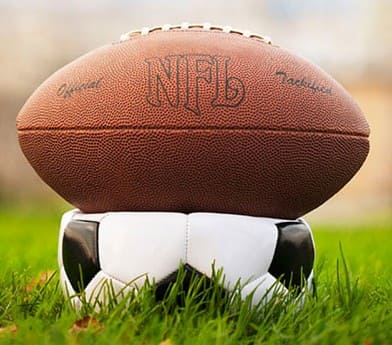futbol americano: (16, 23, 370, 213)
